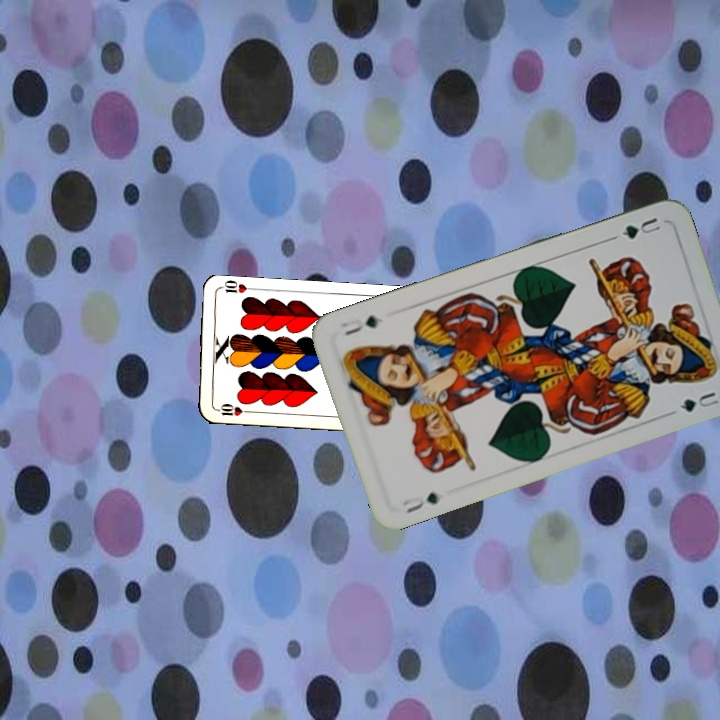GU: (617, 213, 663, 242), (398, 488, 443, 516)
H10: (211, 400, 252, 419)
